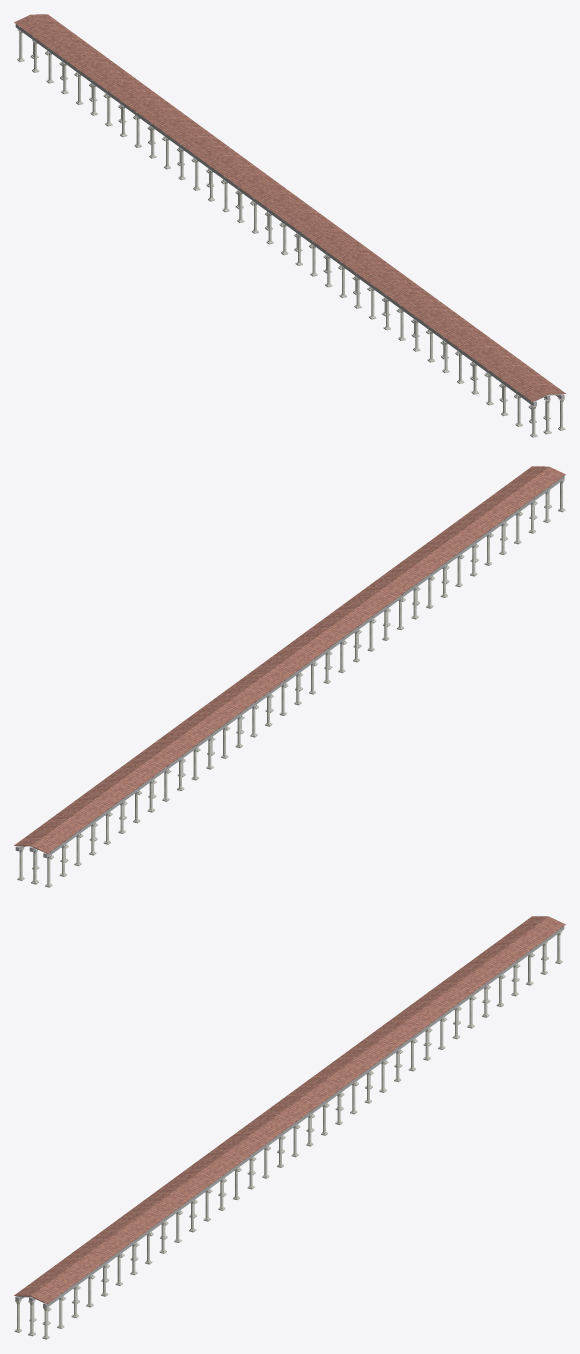
Rendered from wood01.fbx.
3 views of the same model, one above another, from view 1: azimuth 30°, elevation 25°; view 2: azimuth 150°, elevation 25°; view 3: azimuth 330°, elevation 25° (orthographic).
Parts seen in each view (by area): view 1: rooftiles_5, wood26_141; view 2: rooftiles_5, wood26_141; view 3: rooftiles_5, wood26_144.
Part boxes in pixels (x1,y1,x2,y2): rooftiles_5: (14, 14, 565, 401); wood26_141: (15, 24, 536, 406); rooftiles_5: (14, 466, 565, 853); wood26_141: (43, 476, 564, 857); rooftiles_5: (14, 916, 565, 1303); wood26_144: (43, 926, 564, 1308).
Size of the model in its own units: 273 by 309 by 7261.
